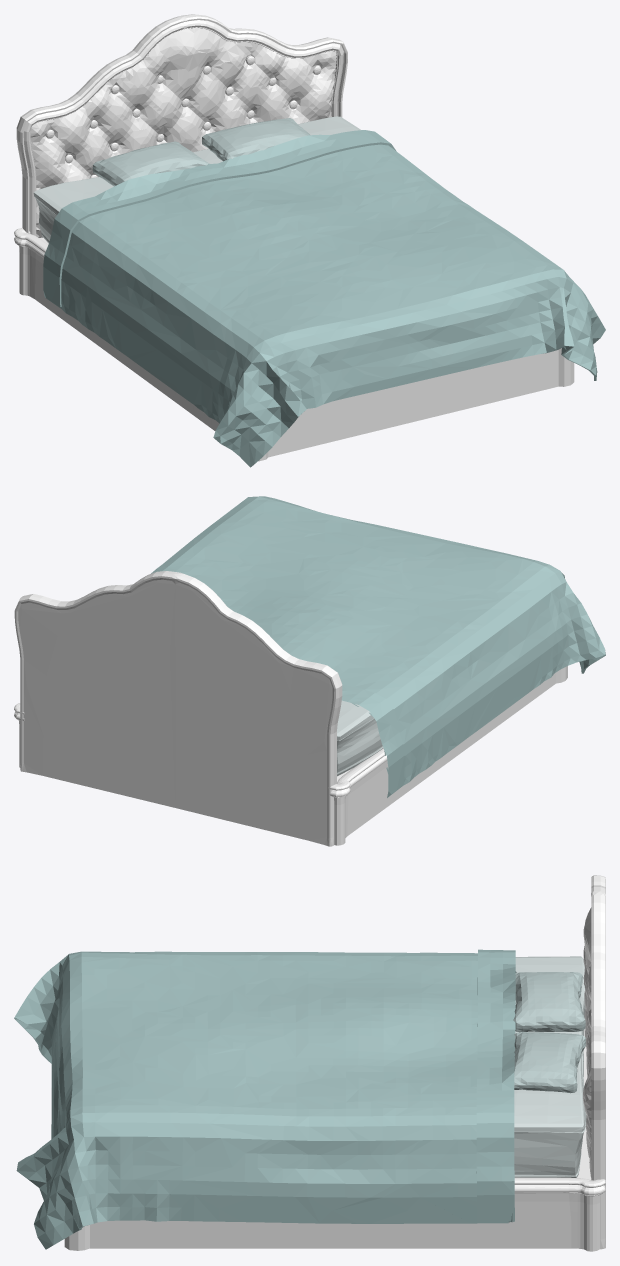
File: b0-bed3.glb
The picture shows the model from 3 angles, top to bottom: view 1: azimuth 30°, elevation 25°; view 2: azimuth 150°, elevation 25°; view 3: azimuth 270°, elevation 25°; orthographic projection. The views are drawn at different scales.
Parts seen in each view (by area): view 1: Plane.002_Plane.002_Blanquet, Plane_Plane_Bed, Cube.001_Cube.002_Frame, Cube_Cube_Frame, Cube.002_Cube.003_Mattress, Cube.003_Cube.005_Pillow, Cube.004_Cube.006_Pillow, Sphere_Sphere.001_Bed; view 2: Cube_Cube_Frame, Plane.002_Plane.002_Blanquet, Cube.001_Cube.002_Frame, Cube.002_Cube.003_Mattress; view 3: Plane.002_Plane.002_Blanquet, Cube.001_Cube.002_Frame, Cube.002_Cube.003_Mattress, Cube_Cube_Frame, Cube.003_Cube.005_Pillow, Cube.004_Cube.006_Pillow, Plane_Plane_Bed, Plane.003_Plane.003_Bed.
Part boxes in pixels (<box>): Plane.002_Plane.002_Blanquet: <box>43,130,605,467</box>; Plane_Plane_Bed: <box>30,27,336,237</box>; Cube.001_Cube.002_Frame: <box>14,228,574,461</box>; Cube_Cube_Frame: <box>16,14,347,235</box>; Cube.002_Cube.003_Mattress: <box>33,116,360,243</box>; Cube.003_Cube.005_Pillow: <box>92,141,209,186</box>; Cube.004_Cube.006_Pillow: <box>202,118,309,161</box>; Sphere_Sphere.001_Bed: <box>45,55,321,178</box>; Cube_Cube_Frame: <box>14,571,342,846</box>; Plane.002_Plane.002_Blanquet: <box>151,496,605,797</box>; Cube.001_Cube.002_Frame: <box>14,666,567,845</box>; Cube.002_Cube.003_Mattress: <box>337,700,383,776</box>; Plane.002_Plane.002_Blanquet: <box>14,949,516,1249</box>; Cube.001_Cube.002_Frame: <box>64,1177,605,1251</box>; Cube.002_Cube.003_Mattress: <box>514,956,586,1177</box>; Cube_Cube_Frame: <box>591,875,605,1249</box>; Cube.003_Cube.005_Pillow: <box>513,972,585,1032</box>; Cube.004_Cube.006_Pillow: <box>514,1032,585,1093</box>; Plane_Plane_Bed: <box>583,907,591,1177</box>; Plane.003_Plane.003_Bed: <box>577,1029,591,1179</box>.
Bounding box in the file's own units: 2.02 × 1.14 × 2.28.
